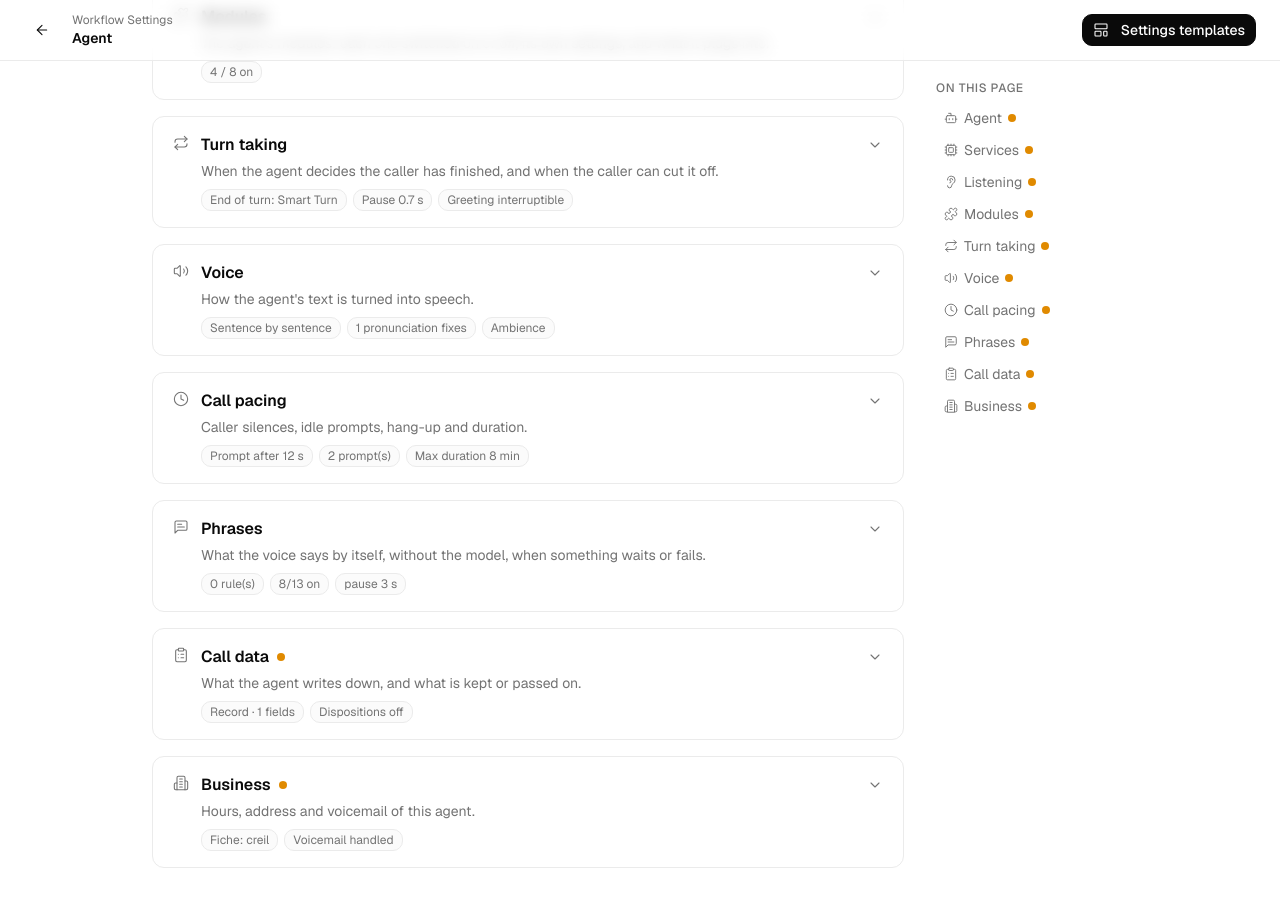
[.mark] the fiche of the agent, theme « Business » › says where each value comes from: the fiche, alone, with no numbers on the fiche
(page scrolled)
Click the button that starts with "Business": (236, 784) [153,757,903,867]
(page scrolled)
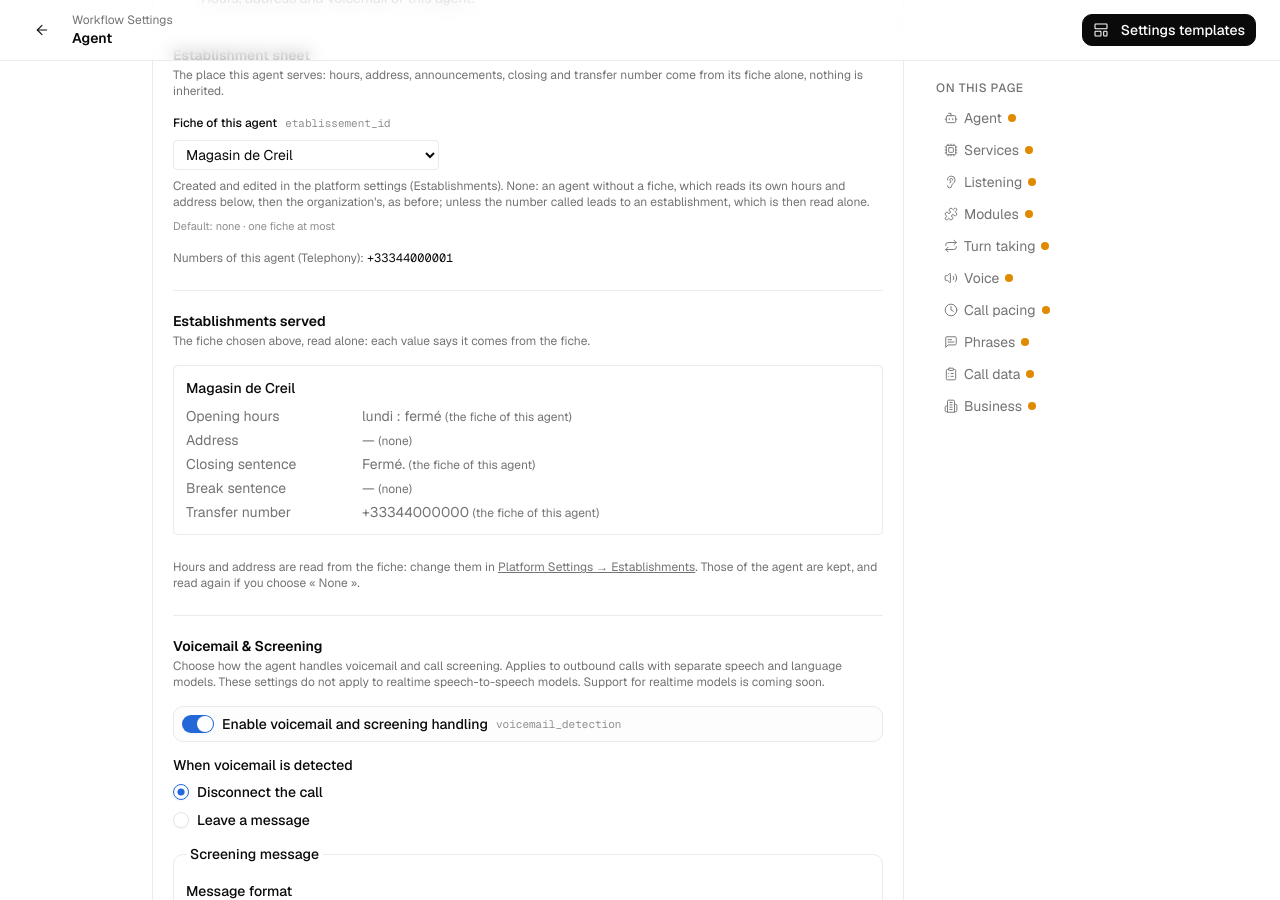
Check: the element with test id "etablissements-servis" is shown, box [173,365,883,535]
